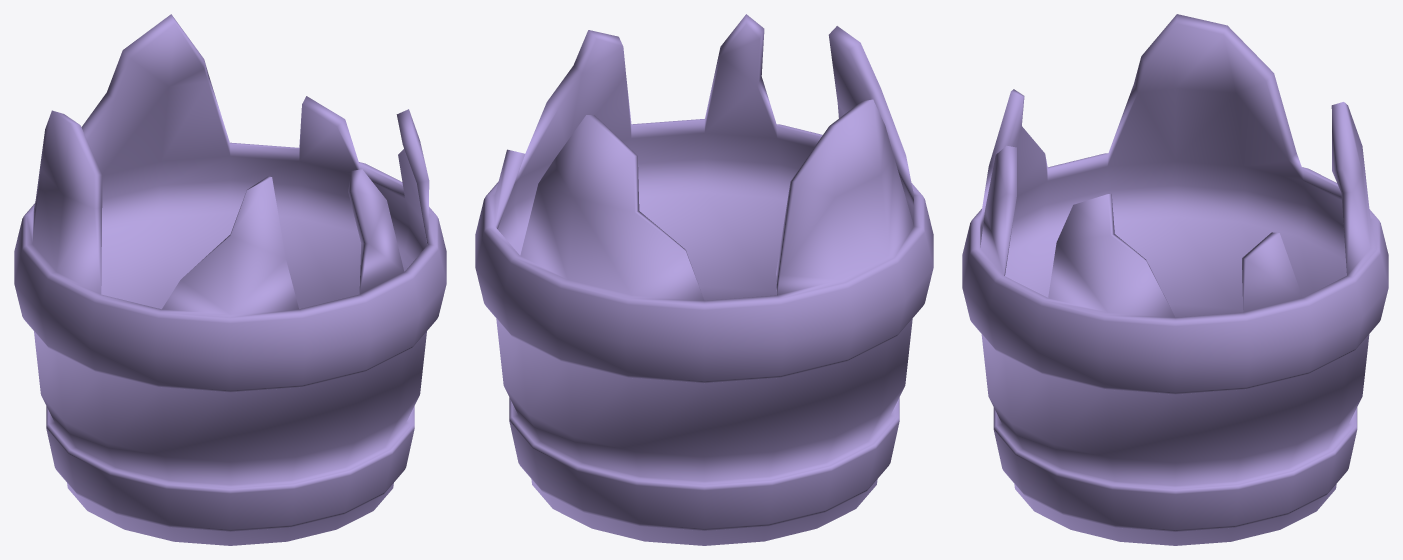
Rendered from DWBarrel2_TX.fbx.
3 renders of one model, left to right at view 1: azimuth 30°, elevation 25°; view 2: azimuth 150°, elevation 25°; view 3: azimuth 270°, elevation 25°, orthographic. The views are drawn at different scales.
Parts seen in each view (by area): view 1: DWBarrel2; view 2: DWBarrel2; view 3: DWBarrel2.
Part boxes in pixels (x1,y1,x2,y2): DWBarrel2: [14, 14, 446, 545]; DWBarrel2: [475, 14, 933, 545]; DWBarrel2: [962, 14, 1388, 545].
Size of the model in its own units: 14.18 by 14.01 by 13.96.
